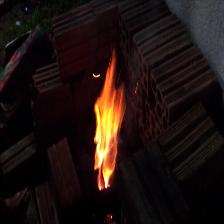fire: (89, 55, 126, 192)
